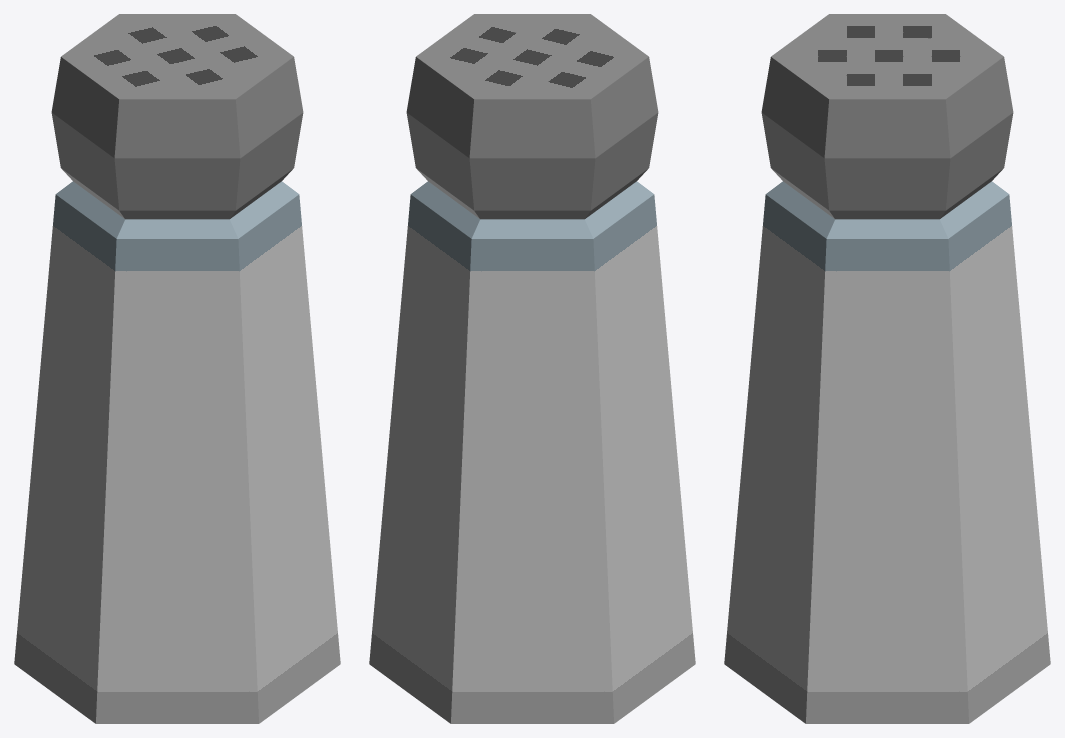
The model's file is SaltShaker.fbx.
3 views of the same model, side by side, from view 1: azimuth 30°, elevation 25°; view 2: azimuth 150°, elevation 25°; view 3: azimuth 270°, elevation 25° (orthographic).
Visible parts, largest first — view 1: Salt.018; view 2: Salt.018; view 3: Salt.018.
Boxes of the visible parts, x1,y1,x2,y2 form: Salt.018: (14,14,340,723); Salt.018: (369,14,695,723); Salt.018: (724,14,1050,723).
Bounding box in the file's own units: 8.36 × 19.82 × 9.66.
